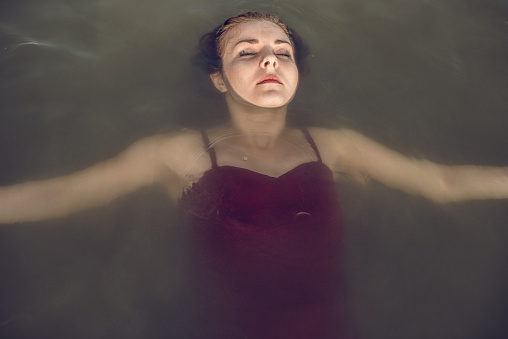deitado: (131, 0, 410, 332)
